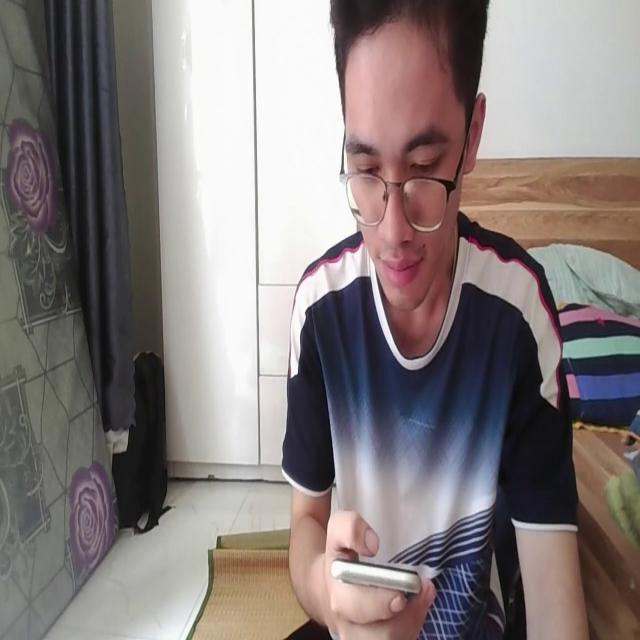phone: (328, 539, 424, 602)
student: (270, 0, 589, 640)
